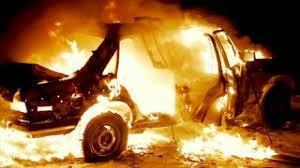fire: (0, 7, 278, 164)
